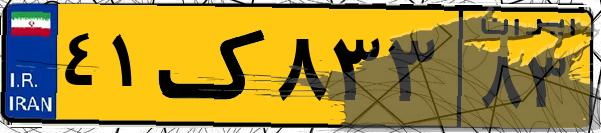1: (110, 28, 158, 98)
3: (385, 28, 445, 110), (330, 28, 385, 110), (525, 38, 570, 115)
4: (57, 26, 110, 100)
8: (270, 28, 330, 110), (475, 38, 525, 113)
ک: (158, 12, 270, 120)
